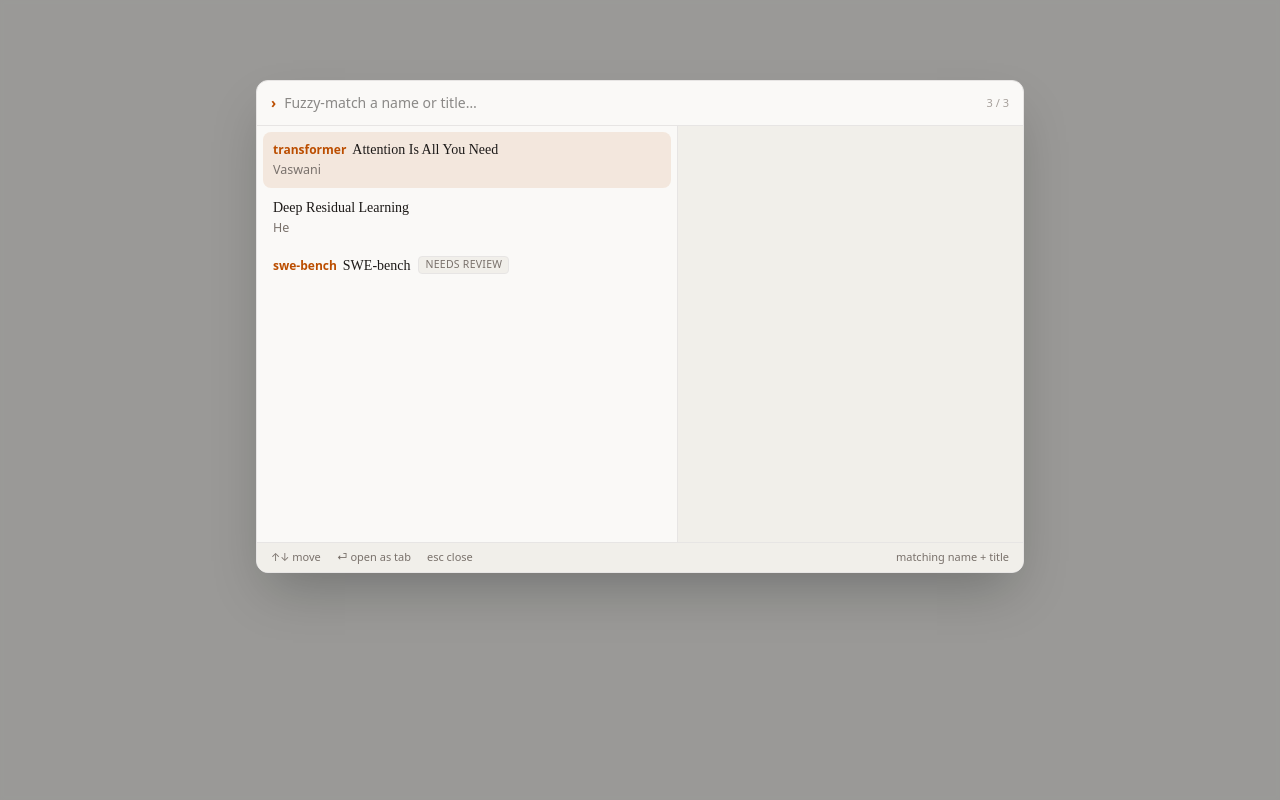
Scenario: FilePicker matching › matches neither authors nor cite keys
Expected: the number of options is 3, left=263, top=132, right=671, bottom=188; left=263, top=190, right=671, bottom=246; left=263, top=248, right=671, bottom=285
Type "vaswani" into the dropdown at x=631, y=103, box left=284, top=81, right=979, bottom=125
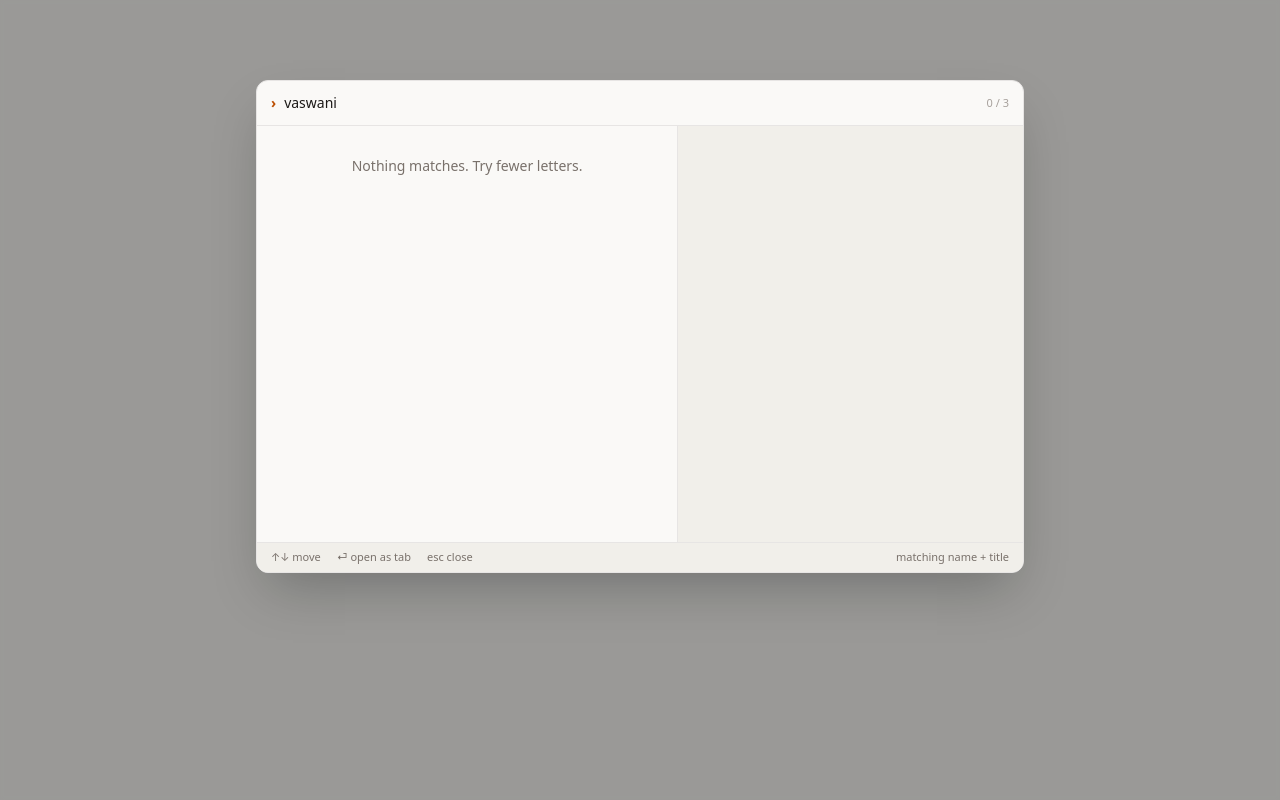
Now no options are shown
Now the list item "Nothing matches. Try fewer letters." is shown, box left=352, top=156, right=583, bottom=175
